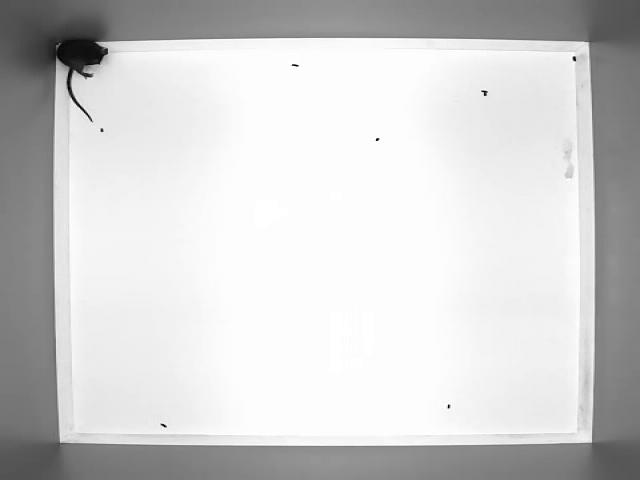Tikus: (55, 38, 107, 124)
